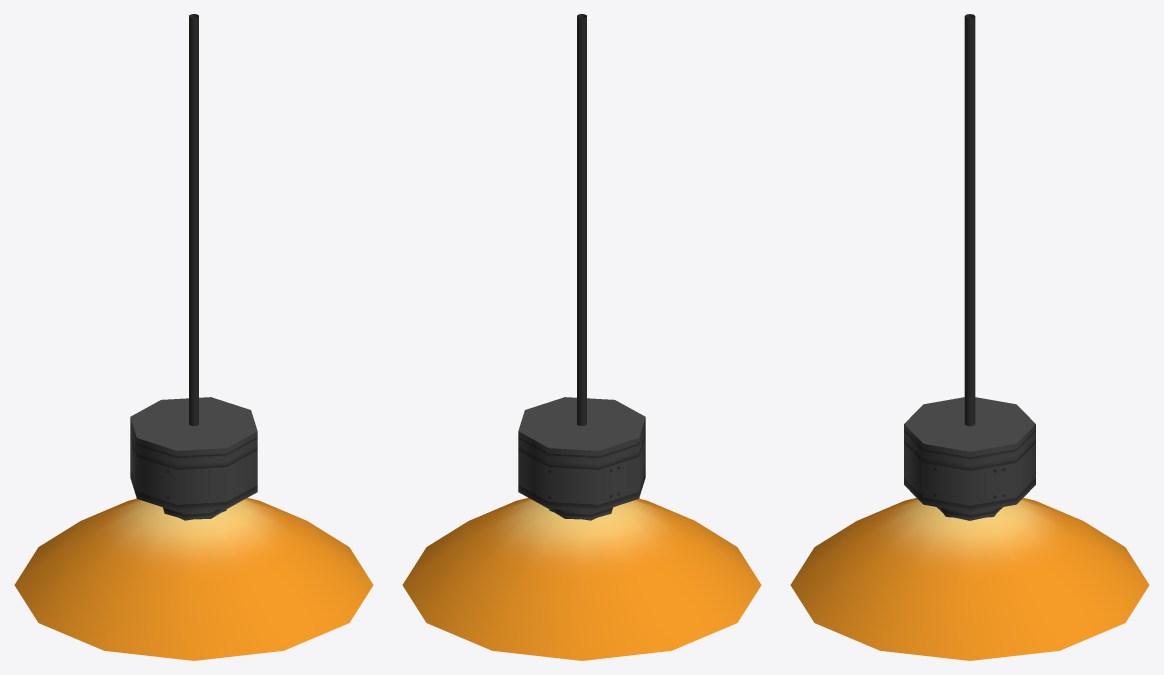
Rendered from CeilingLamp.fbx.
The picture shows the model from 3 angles, left to right: view 1: azimuth 30°, elevation 25°; view 2: azimuth 150°, elevation 25°; view 3: azimuth 270°, elevation 25°; orthographic projection.
Parts seen in each view (by area): view 1: Cylinder, Cylinder.001, Cylinder.002; view 2: Cylinder, Cylinder.001, Cylinder.002; view 3: Cylinder, Cylinder.001, Cylinder.002.
Part boxes in pixels (x1=…): Cylinder: x1=14, y1=497, x2=373, y2=660; Cylinder.001: x1=130, y1=397, x2=257, y2=520; Cylinder.002: x1=189, y1=14, x2=198, y2=425; Cylinder: x1=402, y1=497, x2=761, y2=660; Cylinder.001: x1=518, y1=397, x2=645, y2=520; Cylinder.002: x1=577, y1=14, x2=586, y2=425; Cylinder: x1=790, y1=498, x2=1149, y2=660; Cylinder.001: x1=904, y1=397, x2=1035, y2=520; Cylinder.002: x1=964, y1=14, x2=975, y2=426.
Size of the model in its own units: 200 by 350 by 200.
1 material, 1 textured.
